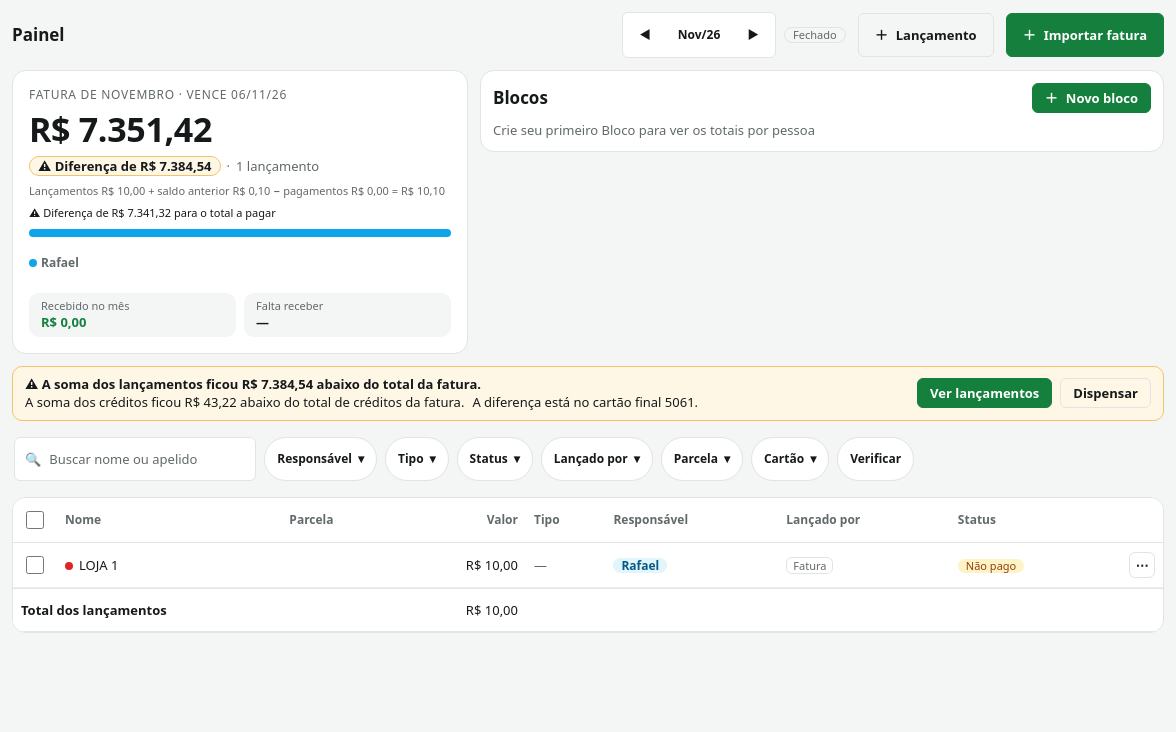
Test: Painel do Mês › filtro que esconde todas as linhas do Mês: texto próprio, não 'nenhum lançamento neste Mês'
This screenshot has width=1176, height=732.
Click the button named "Filtrar por Rafael" at [240, 233], box [29,229,451,237]
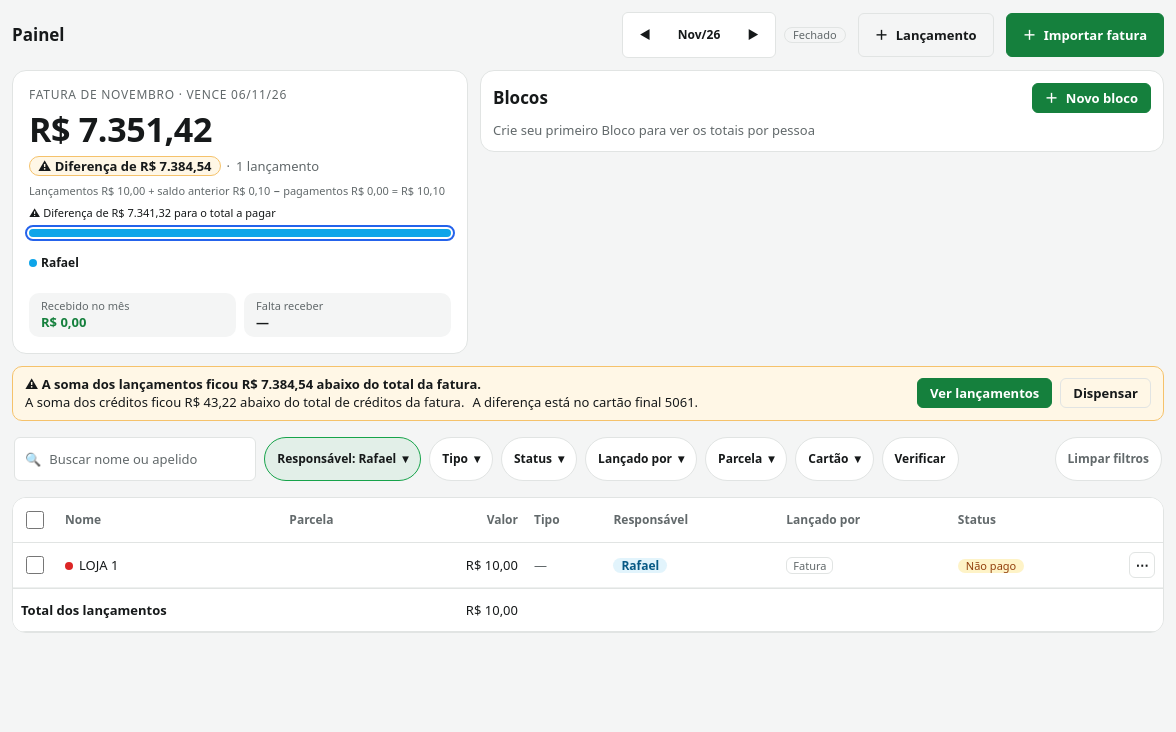
Click the button named "Mês anterior" at [645, 35], box [623,13,667,57]
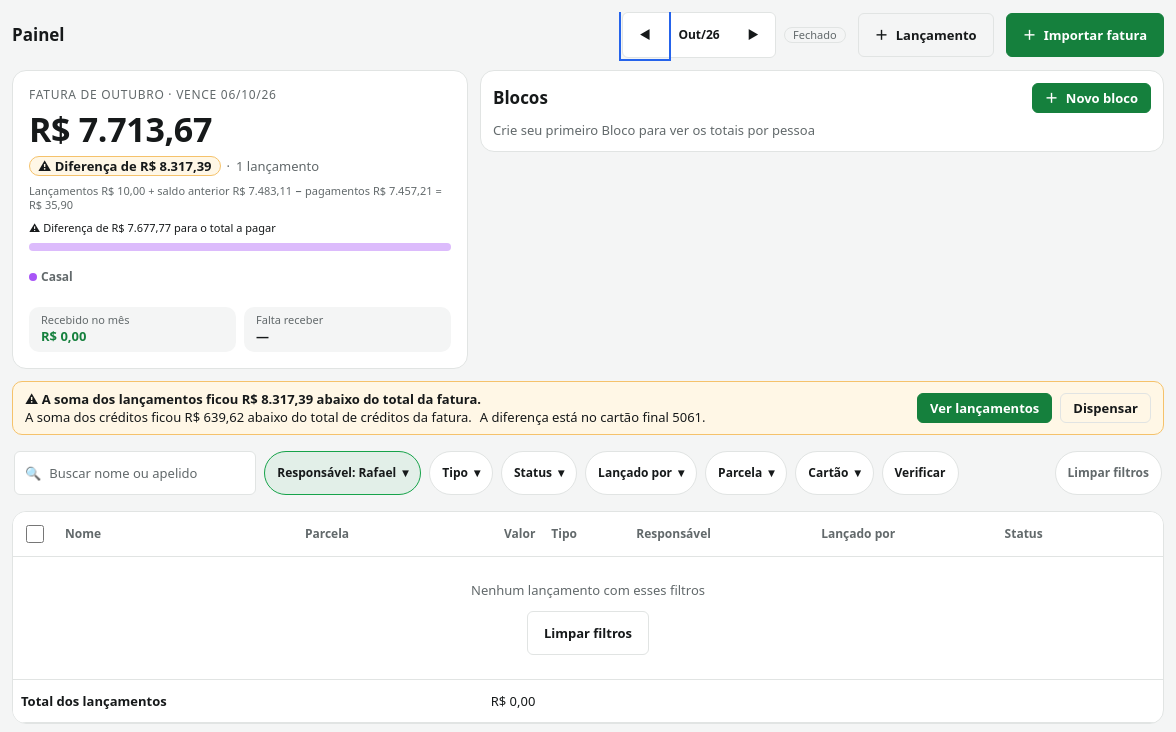
Check: the number of buttons "Limpar filtros" is 2
Check: the text "Nenhum lançamento com esses filtros" is shown, box [471,581,705,599]
Click the button "Limpar filtros" below "Nenhum lançamento com esses filtros" at [588, 633], box [527,611,649,655]
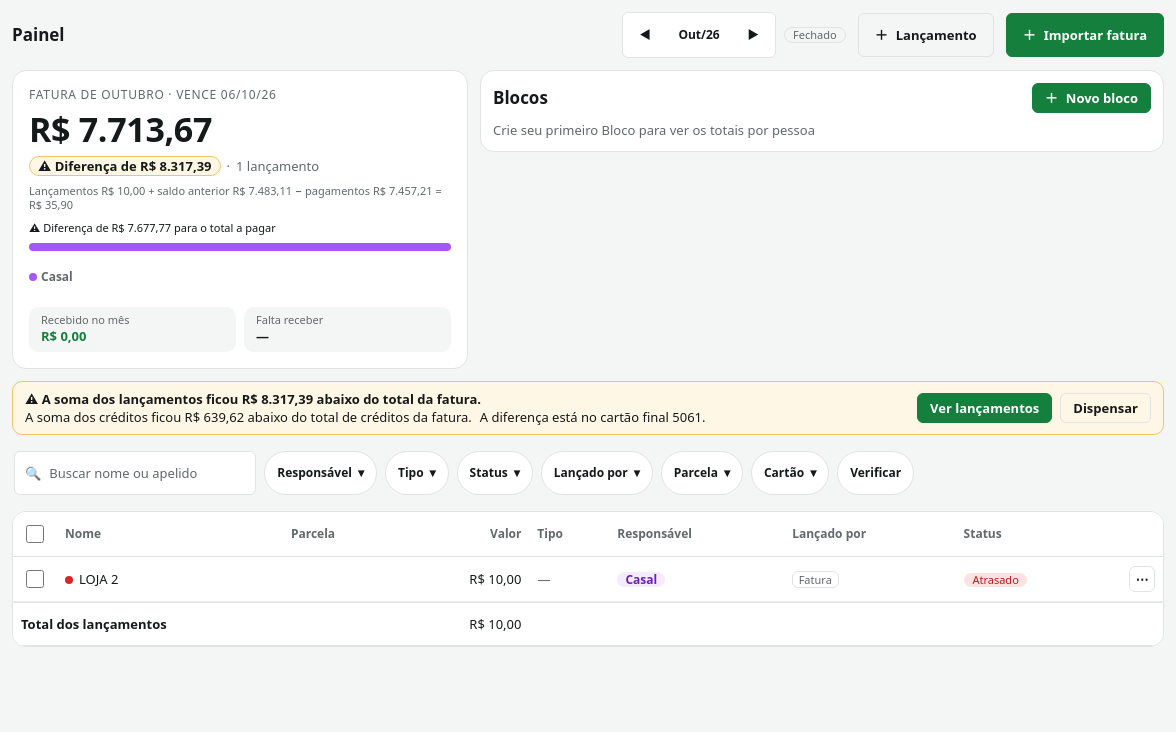
Check: the button "Limpar filtros" is gone
